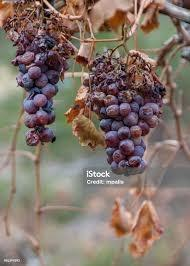Grape Rotten: (3, 1, 77, 146), (82, 50, 166, 175)
